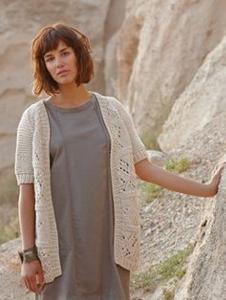C_cardigan sweater: (2, 95, 168, 286)
